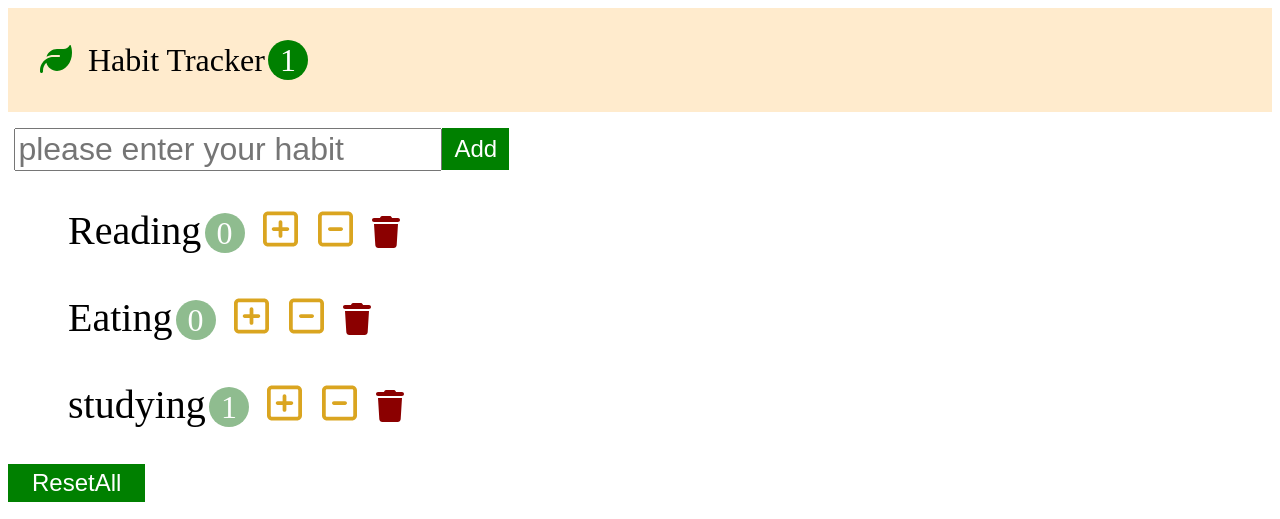
Test case: App › App Component › decrease the counter
The width and height of the screenshot is (1280, 519).
Click the button titled "decrement" in the row of "studying".
click(340, 404)  # box [316,381,363,428]
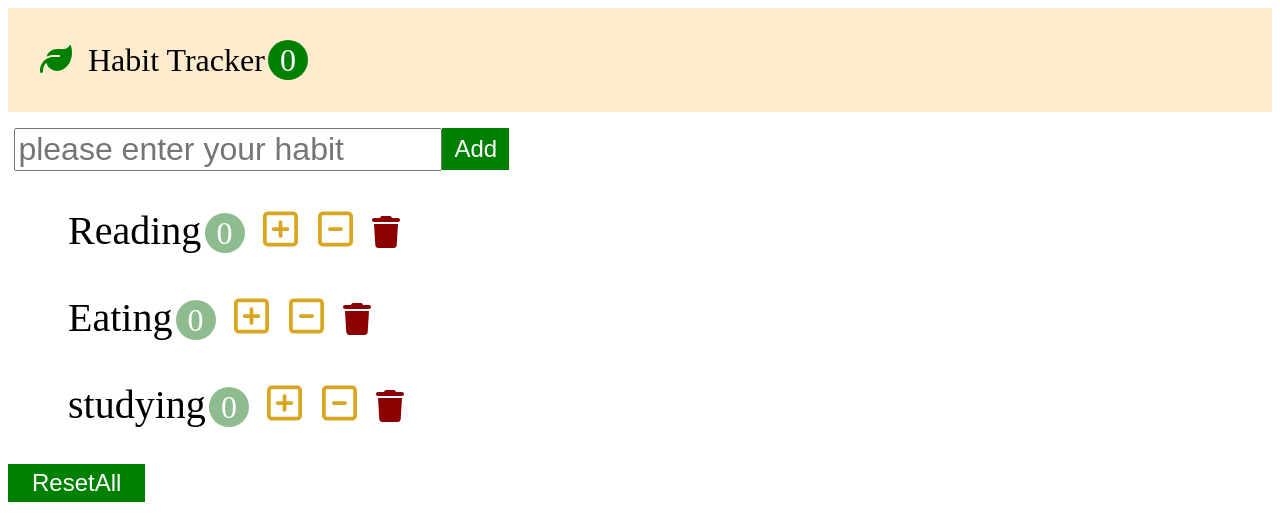
Result: the text titled "habit-count" next to "studying" reads "0" at [221,389,237,425]
